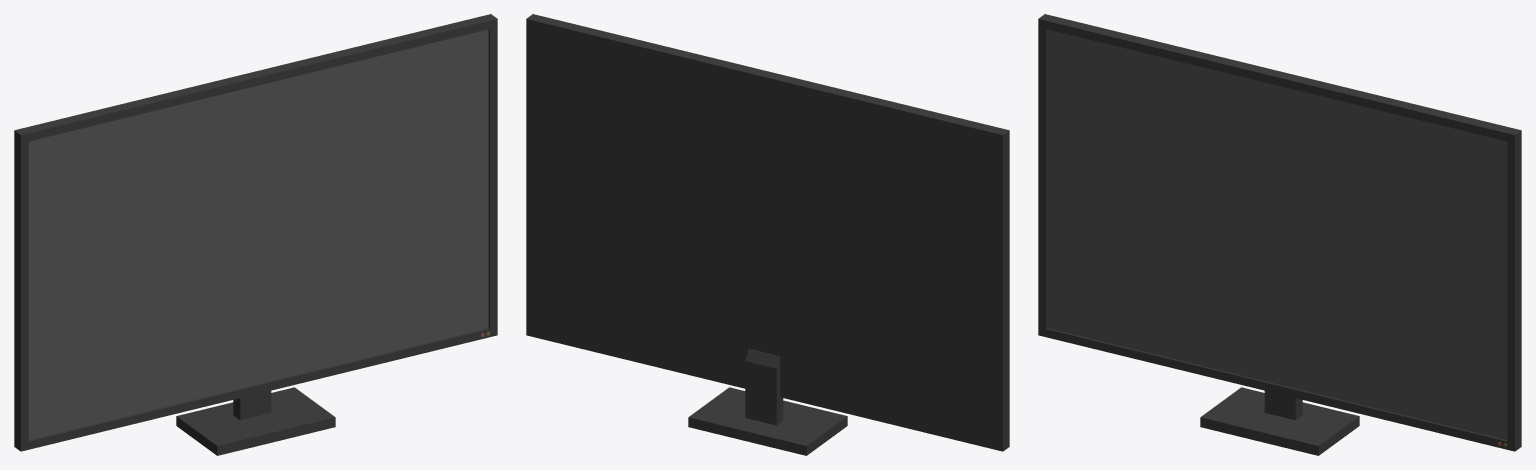
The picture shows the model from 3 angles, left to right: view 1: azimuth 30°, elevation 25°; view 2: azimuth 150°, elevation 25°; view 3: azimuth 330°, elevation 25°; orthographic projection.
Visible parts, largest first — view 1: TV_04; view 2: TV_04; view 3: TV_04.
Boxes of the visible parts, x1=… form: TV_04: x1=14, y1=14, x2=497, y2=455; TV_04: x1=526, y1=14, x2=1009, y2=455; TV_04: x1=1038, y1=14, x2=1521, y2=455.
Bounding box in the file's own units: 123 × 86.76 × 18.29.
